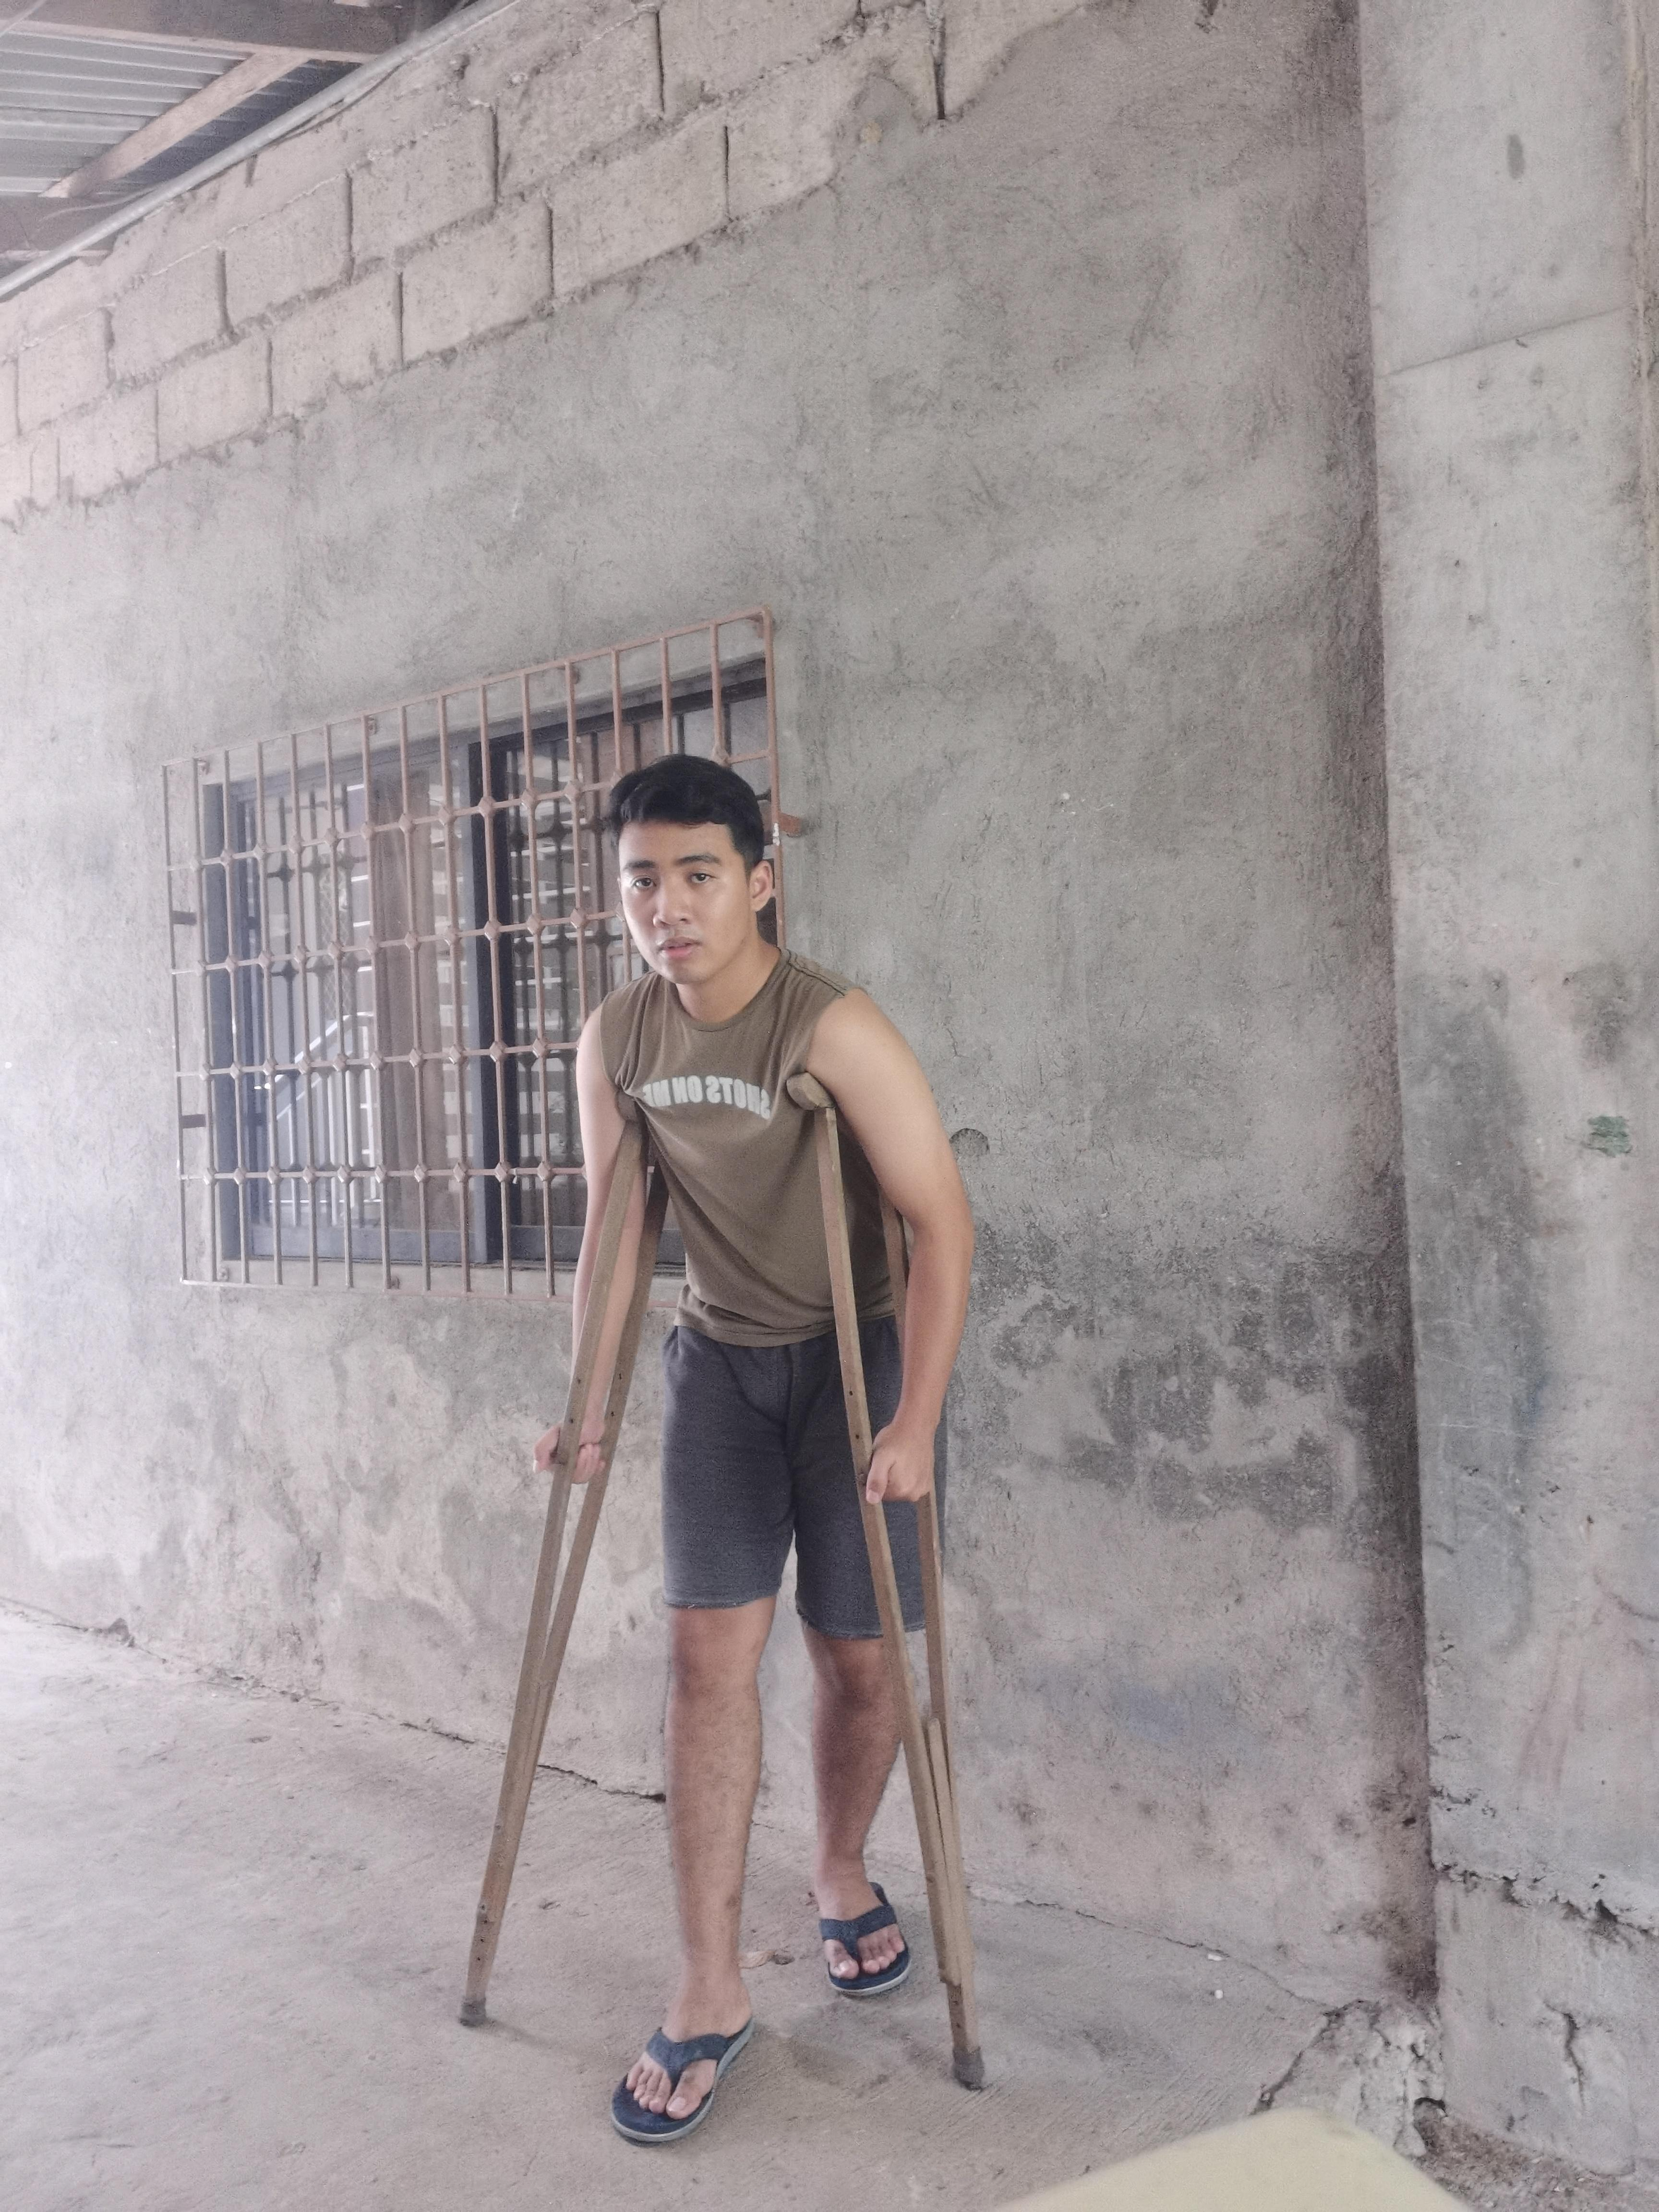crutches: (437, 740, 1006, 2155)
